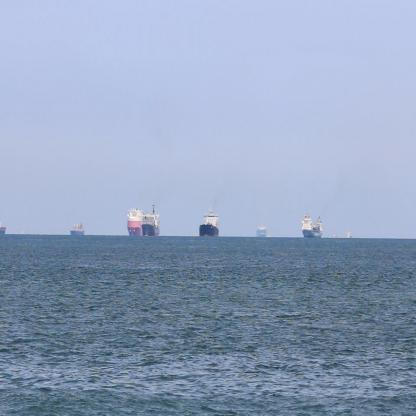Container Ship: (198, 204, 220, 240), (142, 200, 160, 238), (299, 213, 324, 240), (126, 203, 141, 238), (69, 219, 86, 237), (255, 223, 268, 238), (345, 227, 353, 239), (1, 223, 7, 238), (331, 229, 336, 240)
